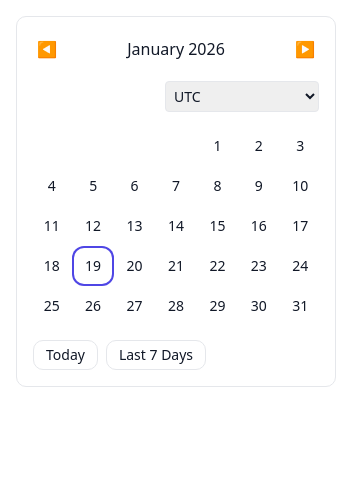
Test: presets apply correctly
This screenshot has width=353, height=486.
Click the button "Today" at (65, 355), box 33,340 -> 98,370
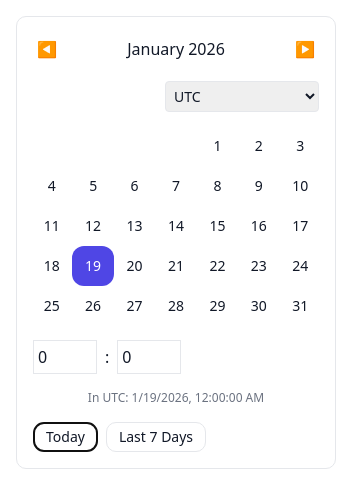
Expected: the 1st number field is shown, 33,340 -> 97,374
